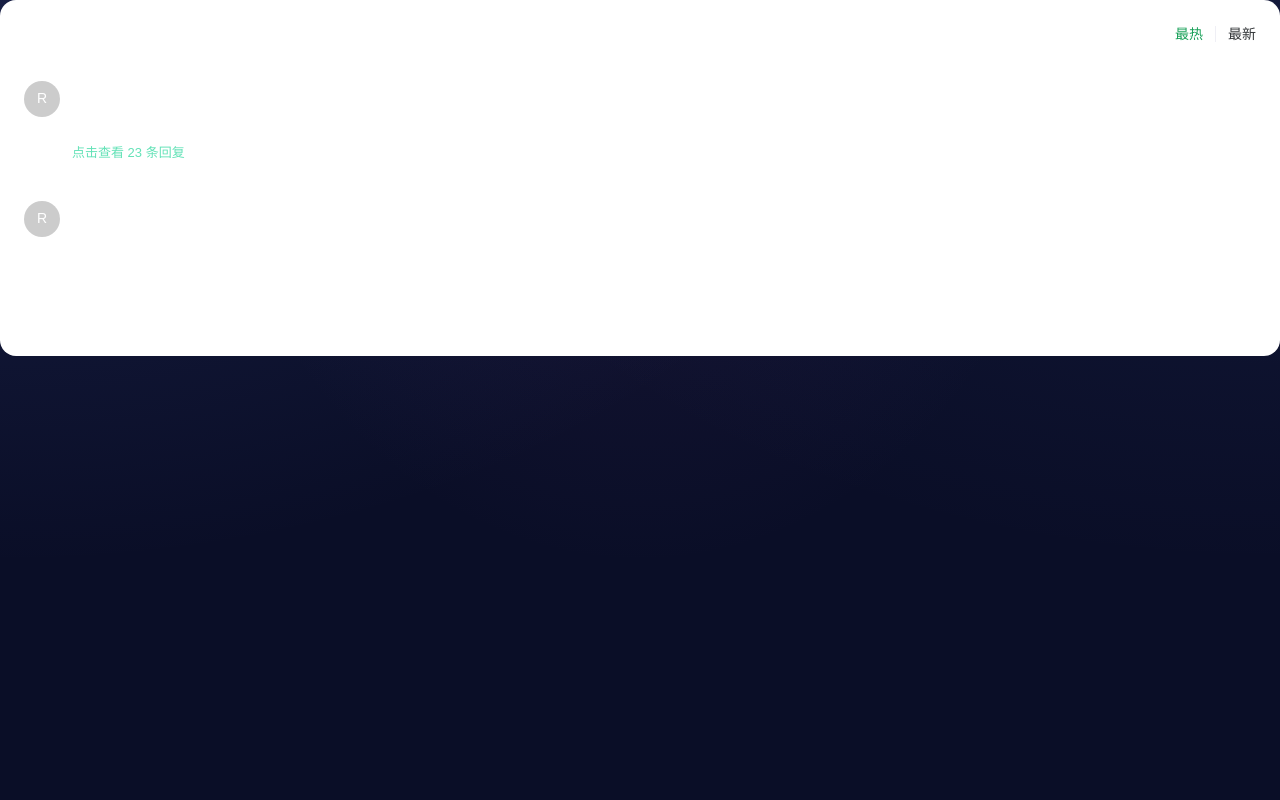
Test case: CommentList 移动端回复抽屉 › 跨到桌面断点：关闭抽屉并去掉 query，回复按第一页内联展示
The width and height of the screenshot is (1280, 800).
Click the button with class "load-replies-btn" at {"x": 128, "y": 152}, box [72,145,185,160]
(page scrolled)
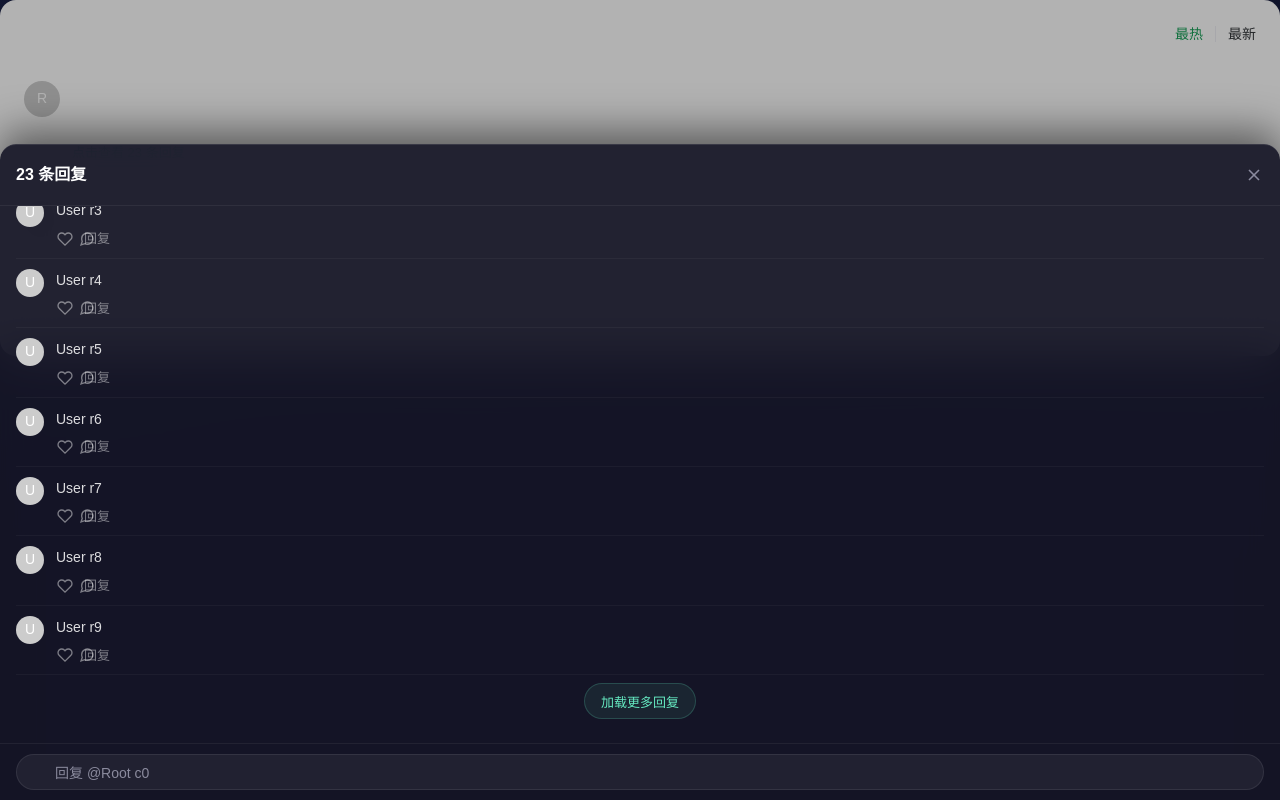
Click the button with class "load-more-replies-btn" at {"x": 640, "y": 701}, box [584,683,696,719]
(page scrolled)
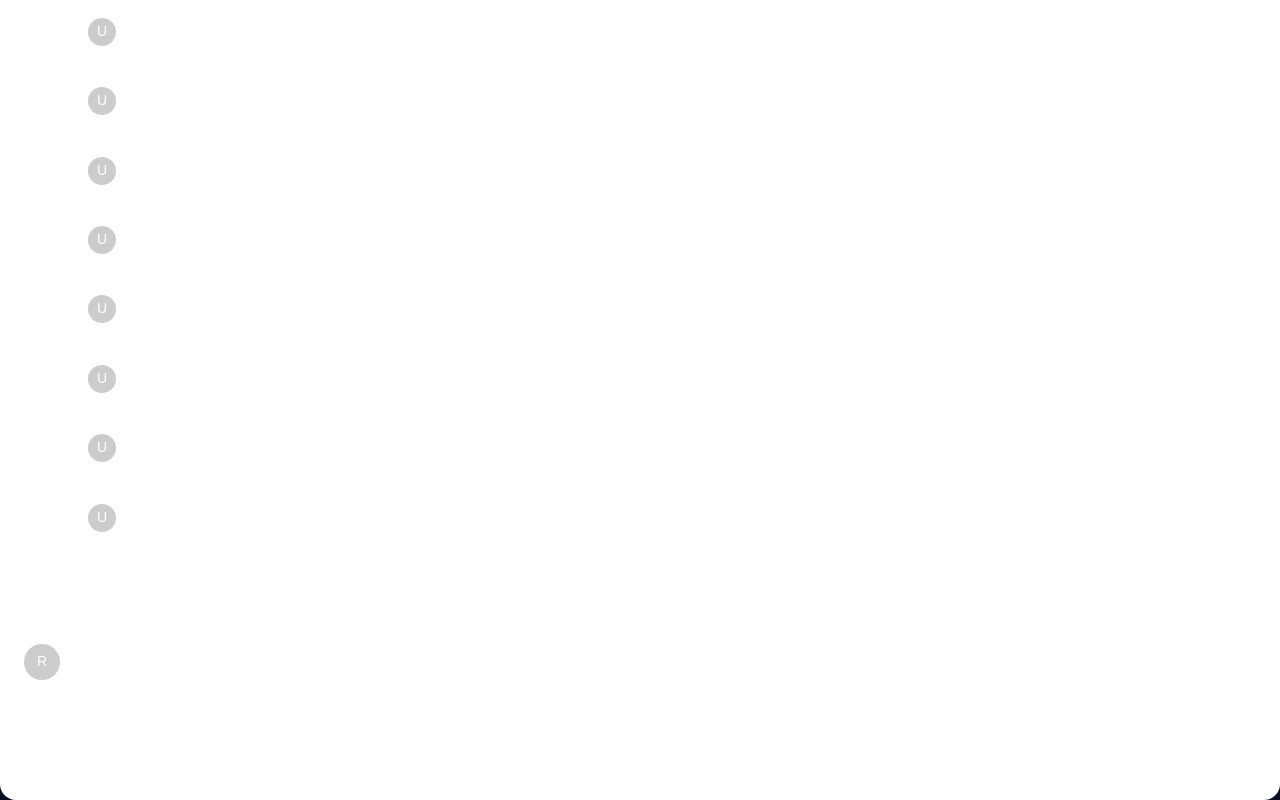
Result: the dialog with class "reply-sheet" is gone
